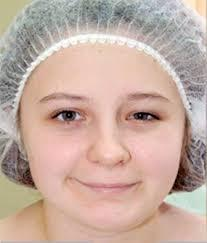strokeEyeWeak: (37, 92, 167, 129)
strokeMouthWeak: (64, 172, 146, 199)
